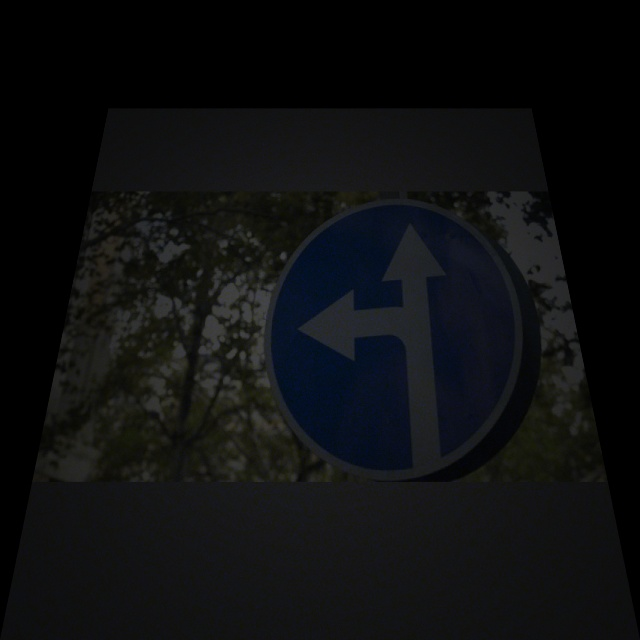Compulsory_Ahead_or_Turn_Left: (260, 200, 564, 471)
